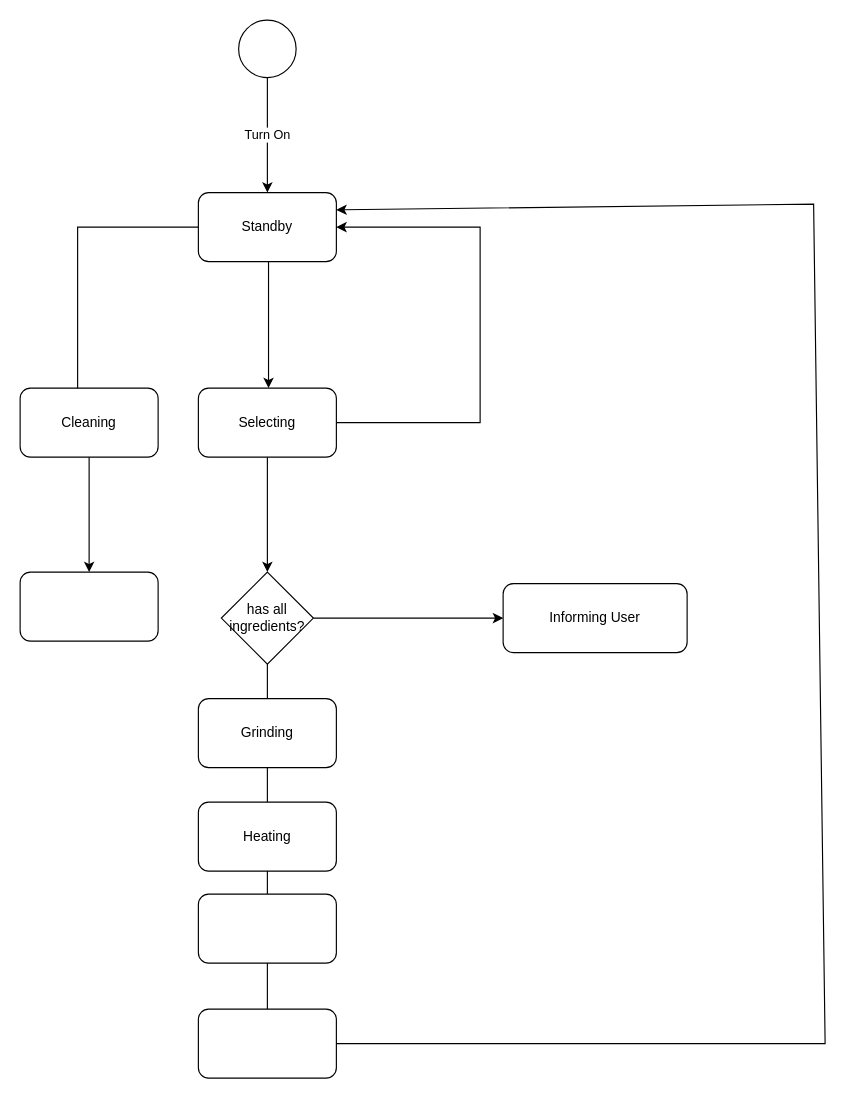
The diagram is 854 pixels wide and 1098 high, and some of its shapes have lost their labels. The shapes that lost their labels are listed below. From the top down, each one's centre as x and y in pixels, then its label:
At point (88, 606): "Off".
At point (266, 928): "Brewing".
At point (266, 1043): "Dispensing".
